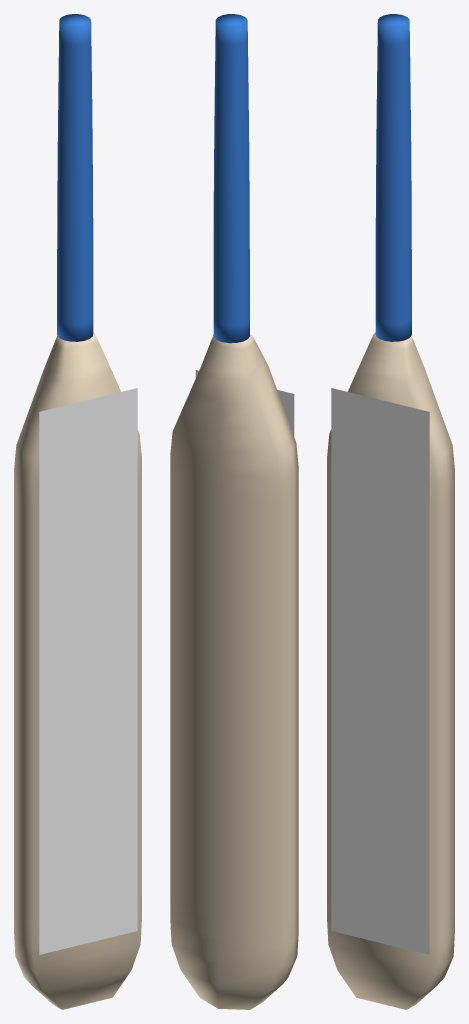
The model's file is cricket-bat.glb.
3 renders of one model, left to right at view 1: azimuth 30°, elevation 25°; view 2: azimuth 150°, elevation 25°; view 3: azimuth 330°, elevation 25°, orthographic.
Parts seen in each view (by area): view 1: Bat_Sticker_Front, Bat_Body_Wood, Bat_Handle; view 2: Bat_Body_Wood, Bat_Handle, Bat_Sticker_Front; view 3: Bat_Sticker_Front, Bat_Body_Wood, Bat_Handle.
Boxes of the visible parts, <box> form: Bat_Sticker_Front: <box>39,388,137,954</box>; Bat_Body_Wood: <box>14,332,141,1009</box>; Bat_Handle: <box>57,14,93,341</box>; Bat_Body_Wood: <box>170,334,298,1009</box>; Bat_Handle: <box>213,14,249,343</box>; Bat_Sticker_Front: <box>195,370,294,436</box>; Bat_Sticker_Front: <box>331,388,429,954</box>; Bat_Body_Wood: <box>327,332,454,1009</box>; Bat_Handle: <box>375,14,411,341</box>.
Size of the model in its own units: 0.108 by 0.87 by 0.0435.
